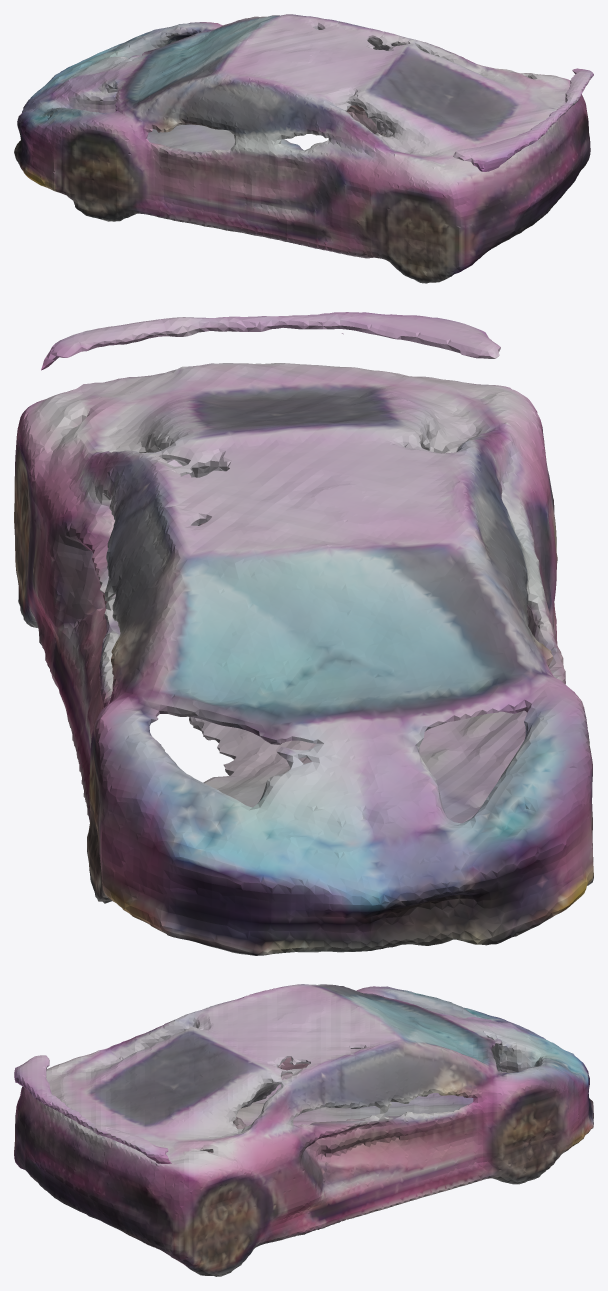
Rendered from 80AF3HH2En3u.jpg.glb.
The picture shows the model from 3 angles, top to bottom: view 1: azimuth 30°, elevation 25°; view 2: azimuth 150°, elevation 25°; view 3: azimuth 270°, elevation 25°; orthographic projection. The views are drawn at different scales.
Visible parts, largest first — view 1: world; view 2: world; view 3: world.
Part boxes in pixels (box(x1,y1,x2,y2)): world: box(14, 14, 593, 283); world: box(14, 312, 593, 955); world: box(14, 984, 593, 1276).
Bounding box in the file's own units: 1.76 × 0.5718 × 1.94.
